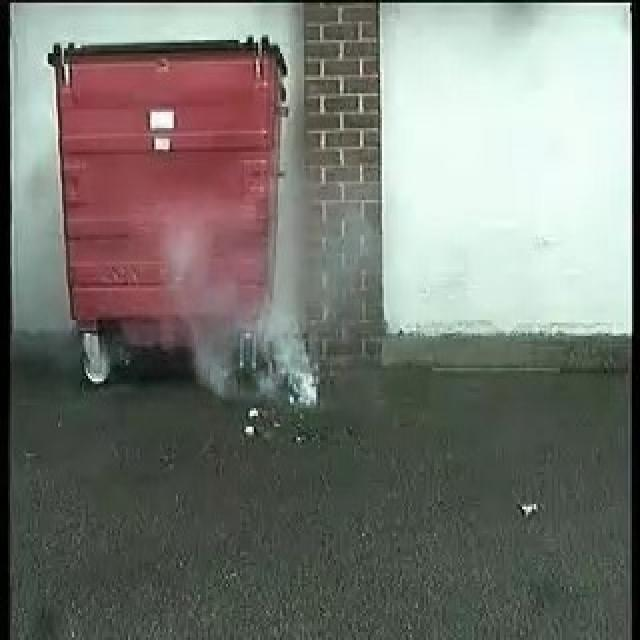smoke: (190, 256, 326, 408)
